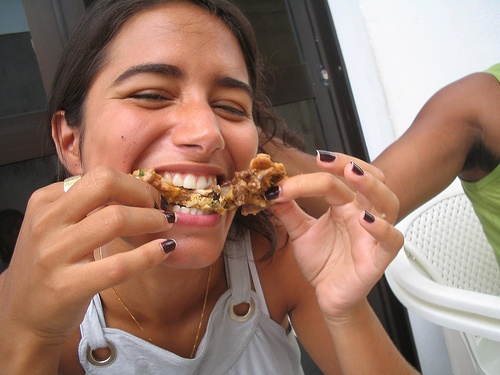head: (49, 2, 263, 275)
person: (12, 1, 480, 375), (321, 1, 497, 375)
